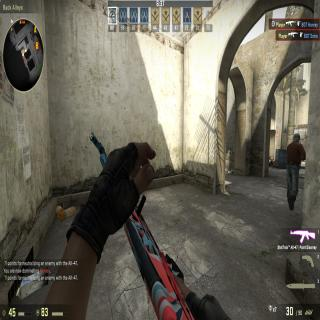T-Body: (284, 132, 304, 209)
T-Head: (292, 132, 302, 144)
